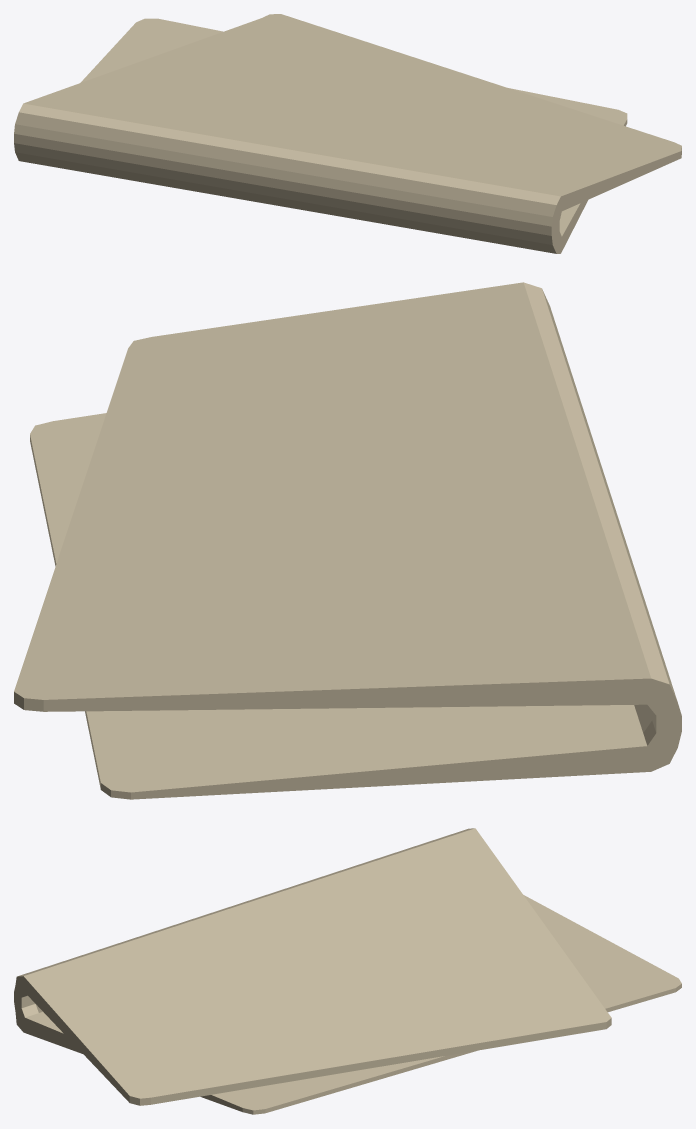
The model's file is newspaper.fbx.
The picture shows the model from 3 angles, top to bottom: view 1: azimuth 30°, elevation 25°; view 2: azimuth 150°, elevation 25°; view 3: azimuth 270°, elevation 25°; orthographic projection. The views are drawn at different scales.
Visible parts, largest first — view 1: newspaper; view 2: newspaper; view 3: newspaper.
Part boxes in pixels (x1=…): newspaper: x1=14, y1=14, x2=681, y2=253; newspaper: x1=14, y1=282, x2=681, y2=799; newspaper: x1=14, y1=828, x2=681, y2=1114.
Bounding box in the file's own units: 184 × 19.96 × 214.
